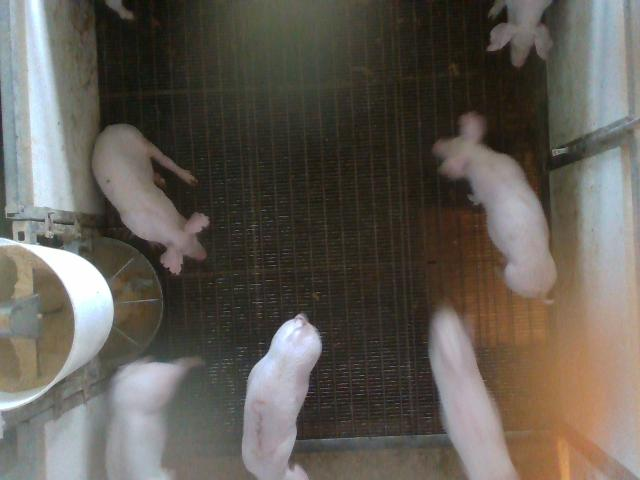pig-3: (242, 314, 321, 479)
